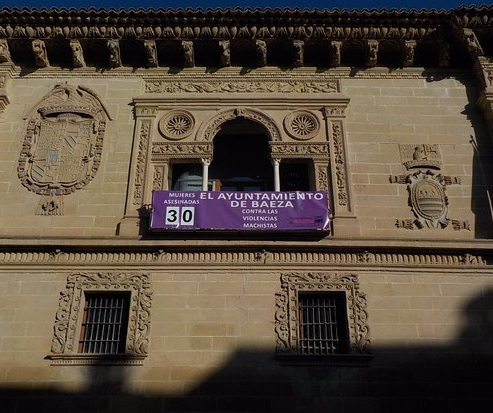serliana: (152, 105, 320, 194)
